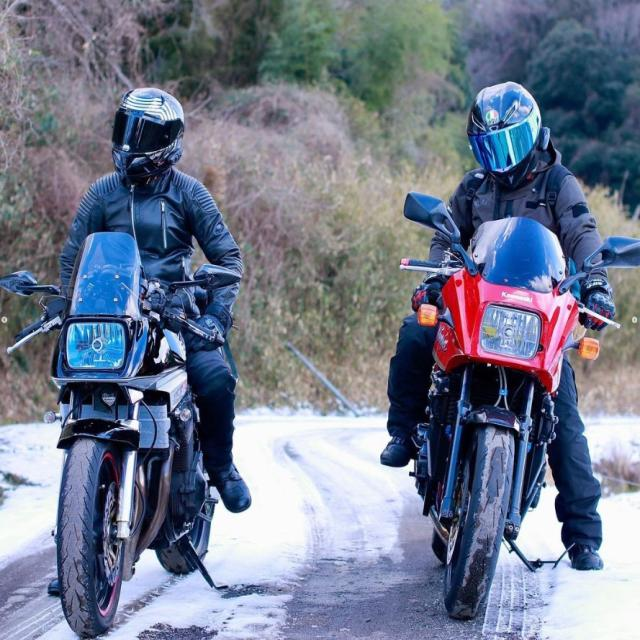helmet: (464, 78, 550, 192), (108, 81, 189, 190)
